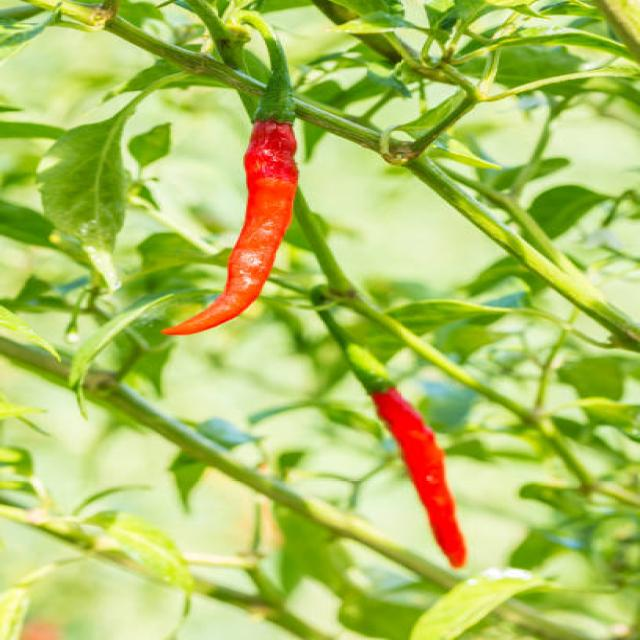Ripe: (163, 115, 298, 335), (371, 388, 467, 567)
